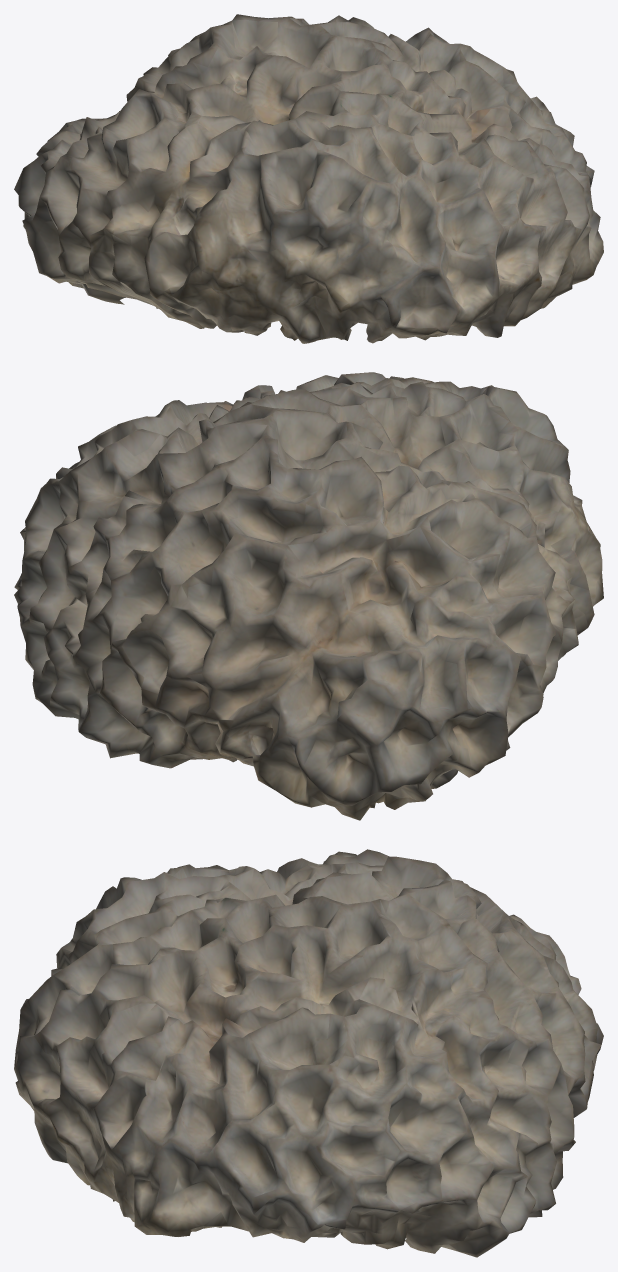
The model's file is brain-coral-76.83_FBX_still.fbx.
3 views of the same model, one above another, from view 1: azimuth 30°, elevation 25°; view 2: azimuth 150°, elevation 25°; view 3: azimuth 270°, elevation 25° (orthographic). The views are drawn at different scales.
Parts seen in each view (by area): view 1: brain-coral-76.83_gameasset; view 2: brain-coral-76.83_gameasset; view 3: brain-coral-76.83_gameasset.
Part boxes in pixels (bbox=[...]): brain-coral-76.83_gameasset: bbox=[14, 14, 603, 343]; brain-coral-76.83_gameasset: bbox=[14, 372, 603, 820]; brain-coral-76.83_gameasset: bbox=[14, 849, 603, 1257].
Size of the model in its own units: 14.83 by 7.87 by 14.28.
Materials: 1 (1 with a texture image).
